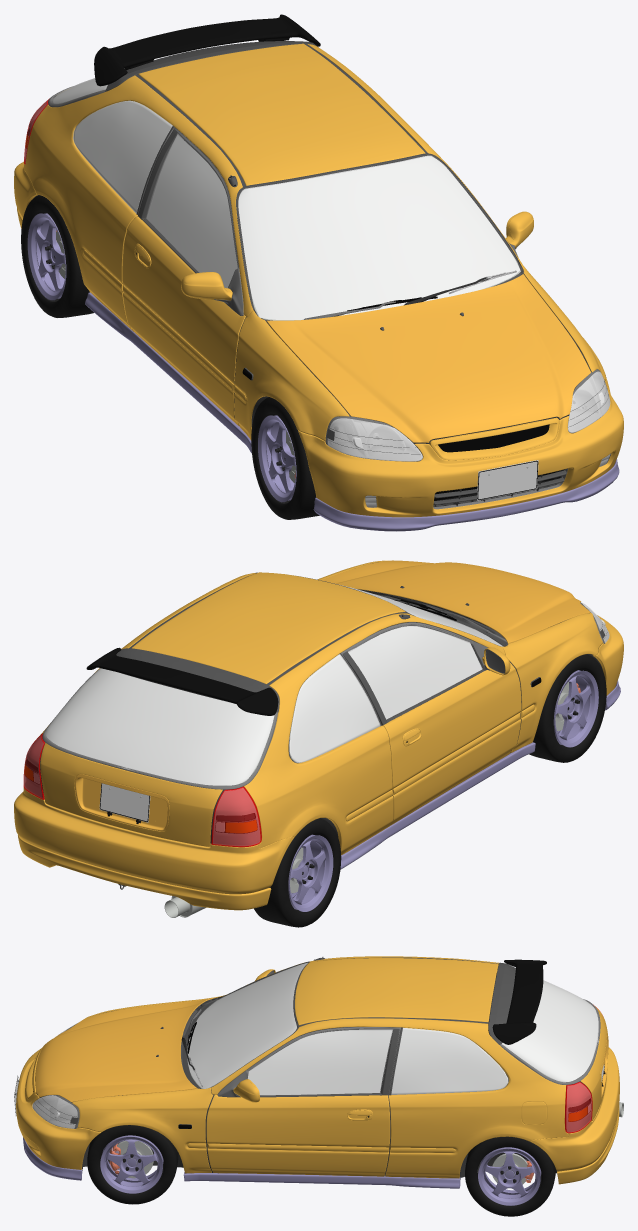
Rendered from Honda_civic_ek9.glb.
3 views of the same model, one above another, from view 1: azimuth 30°, elevation 25°; view 2: azimuth 150°, elevation 25°; view 3: azimuth 270°, elevation 25° (orthographic). The views are drawn at different scales.
Visible parts, largest first — view 1: rep118, rep64, rep107, rep108, rep121, rep1, rep111, rep45, rep115, rep80, rep71, rep122 (+9 smaller); view 2: rep108, rep118, rep64, rep107, rep121, rep1, rep111, rep105, rep80, rep71, rep130, rep128 (+7 smaller); view 3: rep108, rep118, rep64, rep107, rep121, rep1, rep92, rep86, rep111, rep110, rep129, rep127 (+11 smaller).
Boxes of the visible parts, box(x1,y1,x2,y2) form: rep118: box(51, 78, 519, 319); rep64: box(52, 79, 520, 320); rep107: box(24, 44, 623, 517); rep108: box(14, 43, 559, 460); rep121: box(266, 274, 590, 442); rep1: box(105, 41, 566, 505); rep111: box(94, 14, 320, 86); rep45: box(327, 371, 610, 461); rep115: box(313, 459, 619, 531); rep80: box(21, 195, 93, 317); rep71: box(251, 397, 319, 519); rep122: box(352, 376, 602, 460); rep108: box(14, 572, 534, 910); rep118: box(45, 584, 502, 785); rep64: box(46, 593, 503, 785); rep107: box(40, 560, 623, 855); rep121: box(321, 560, 590, 643); rep1: box(116, 572, 540, 889); rep111: box(86, 647, 278, 715); rep105: box(23, 733, 261, 847); rep80: box(254, 818, 341, 927); rep71: box(529, 654, 606, 762); rep130: box(288, 834, 333, 911); rep128: box(553, 670, 598, 747); rep108: box(25, 958, 619, 1184); rep118: box(187, 962, 598, 1095); rep64: box(188, 963, 597, 1094); rep107: box(16, 956, 569, 1178); rep121: box(35, 998, 212, 1102); rep1: box(156, 957, 515, 1128); rep92: box(87, 1125, 178, 1204); rep86: box(465, 1136, 556, 1216); rep111: box(492, 959, 546, 1044); rep110: box(183, 1172, 460, 1188); rep129: box(478, 1147, 541, 1205); rep127: box(100, 1135, 163, 1193).
Size of what is drawn, in the model's own units: 1972 by 1370 by 4219.
